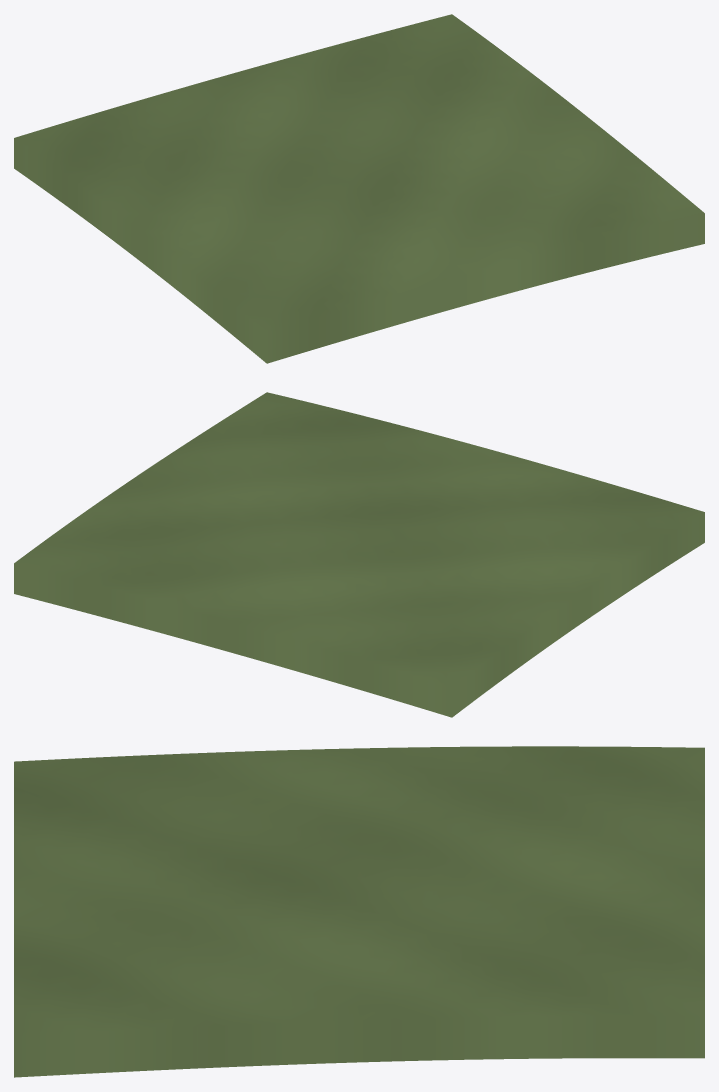
3 renders of one model, top to bottom at view 1: azimuth 30°, elevation 25°; view 2: azimuth 150°, elevation 25°; view 3: azimuth 270°, elevation 25°, orthographic. The views are drawn at different scales.
Parts seen in each view (by area): view 1: terrain; view 2: terrain; view 3: terrain.
Part boxes in pixels (bbox=[...]): terrain: bbox=[14, 14, 704, 363]; terrain: bbox=[14, 392, 704, 717]; terrain: bbox=[14, 746, 704, 1077].
Size of the model in its own units: 30 by 3.78 by 30.
